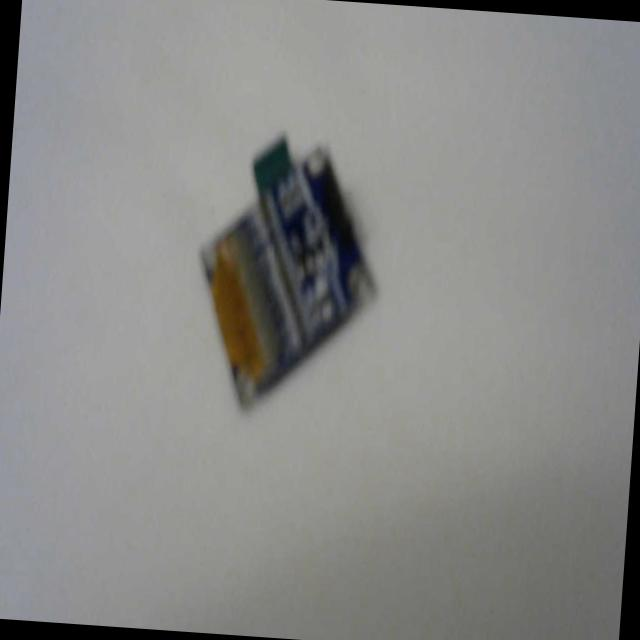oled: (186, 119, 392, 421)
